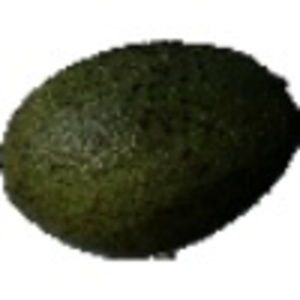abacate: (1, 33, 298, 260)
